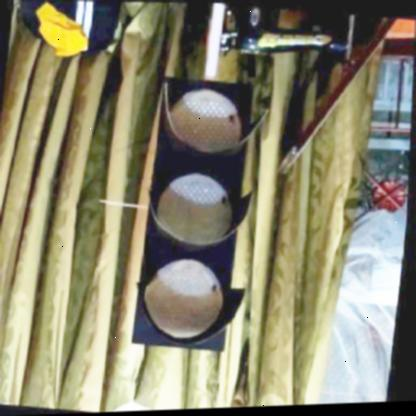Traffic Light -Yellow-: (134, 75, 268, 356)
